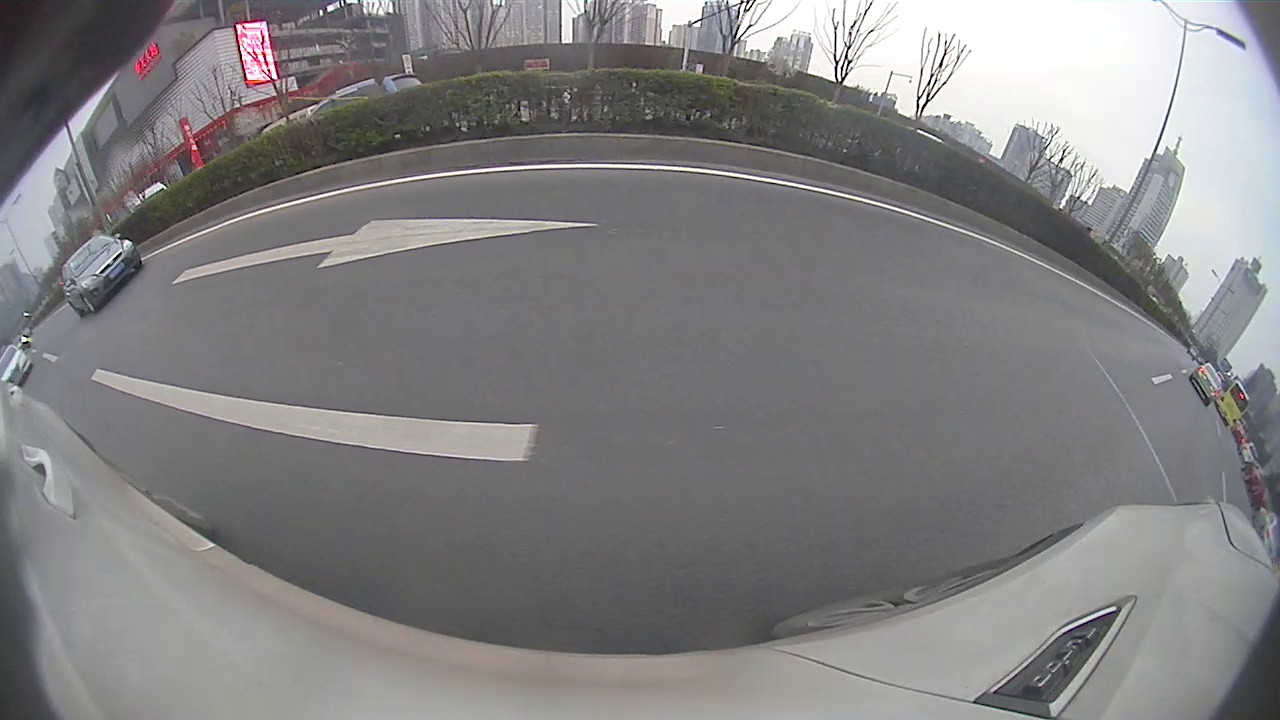bus: (1214, 378, 1252, 428)
car: (60, 231, 144, 321), (1189, 362, 1223, 408)
